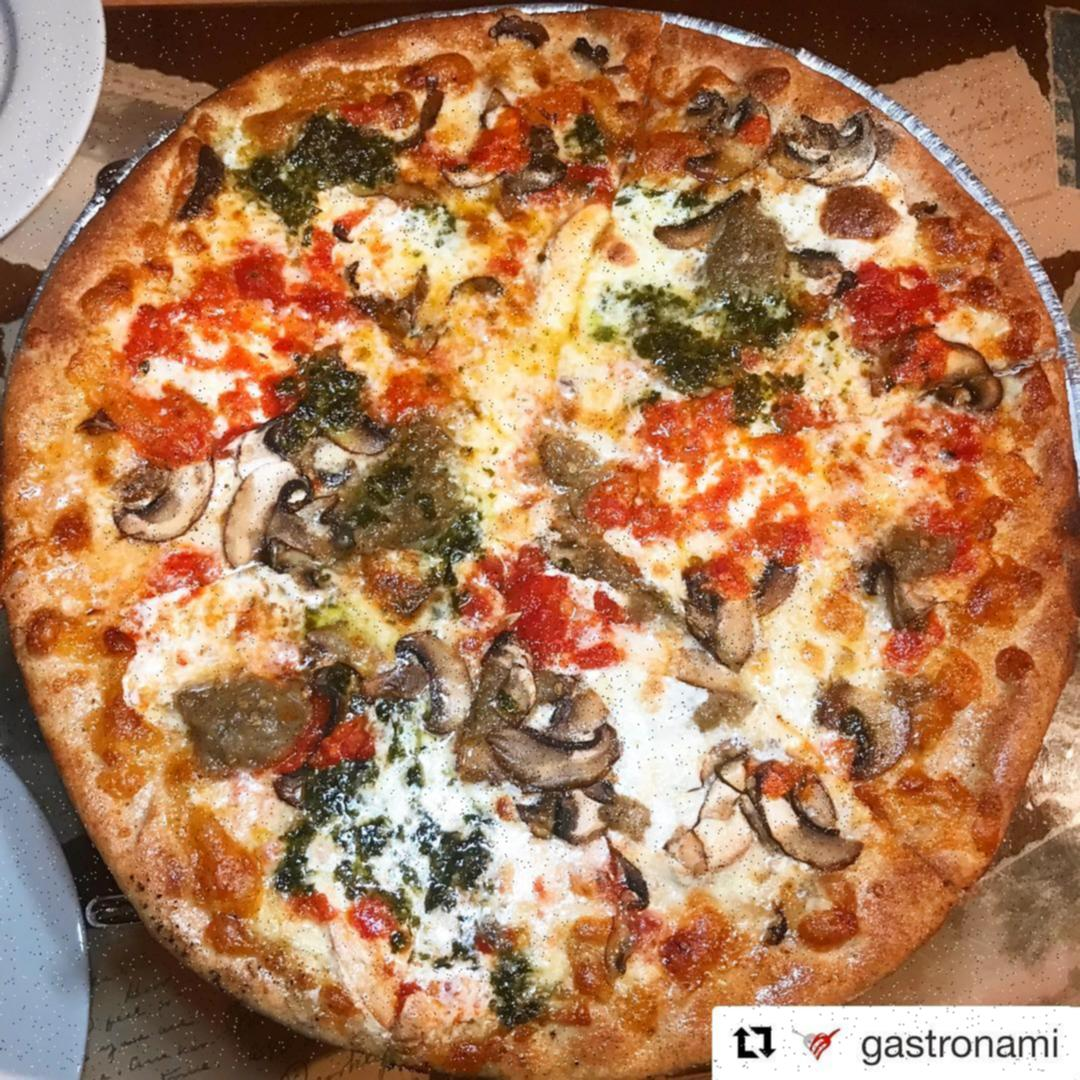Mushroom: (461, 637, 623, 822), (705, 764, 868, 882), (535, 431, 634, 586), (221, 464, 343, 586), (397, 618, 496, 754), (828, 666, 918, 781), (779, 108, 889, 196), (915, 331, 1018, 418), (122, 458, 219, 550), (686, 98, 778, 188), (650, 186, 772, 252), (448, 142, 575, 204), (684, 574, 766, 666), (861, 549, 943, 639), (283, 404, 406, 457), (780, 243, 864, 305), (755, 552, 815, 616), (492, 8, 558, 52)
Pizza: (0, 11, 1070, 1071)
